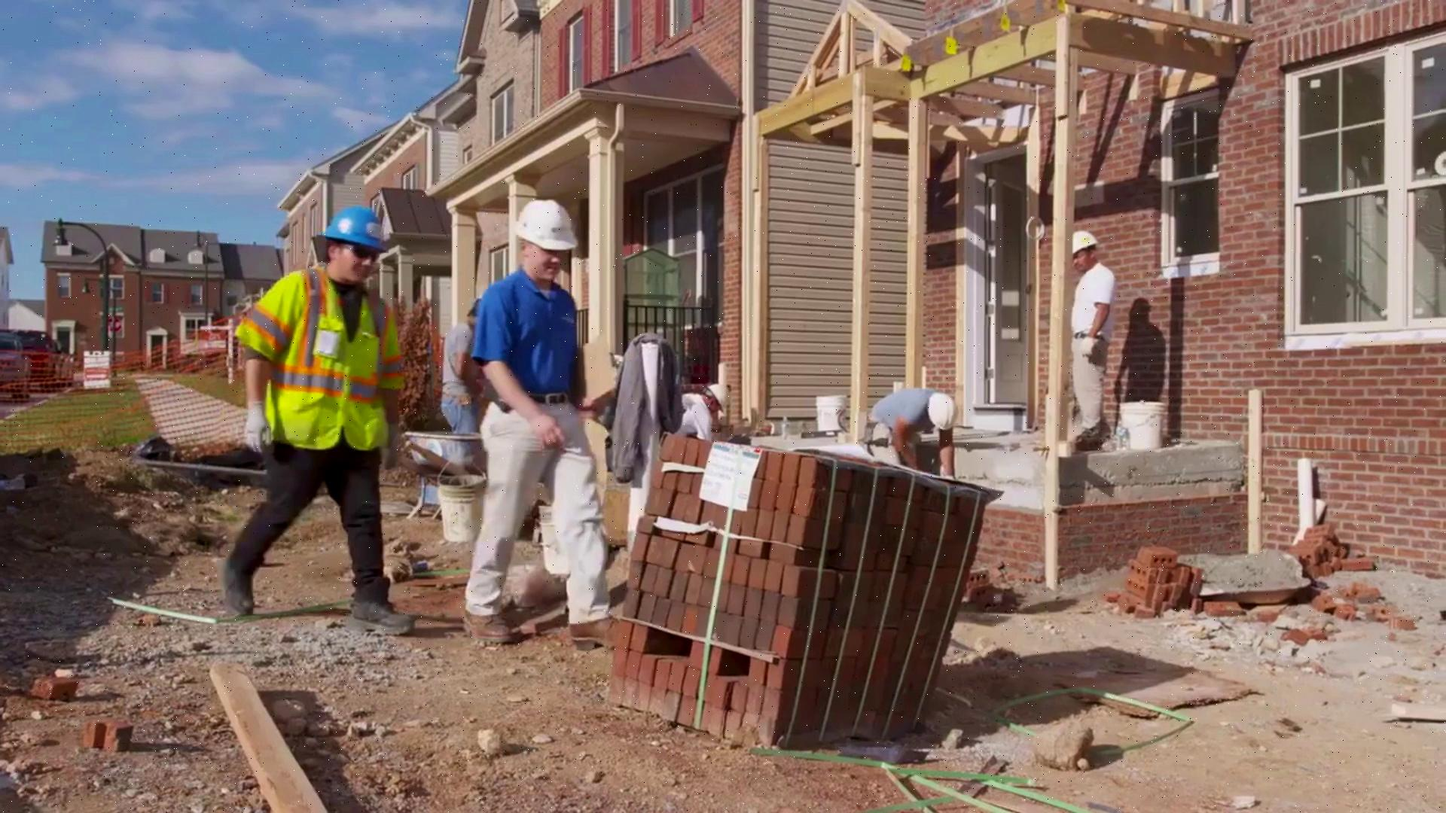Hard_hat: (309, 204, 406, 255), (514, 201, 583, 251), (1065, 228, 1108, 260)
Vest: (237, 273, 403, 448)
